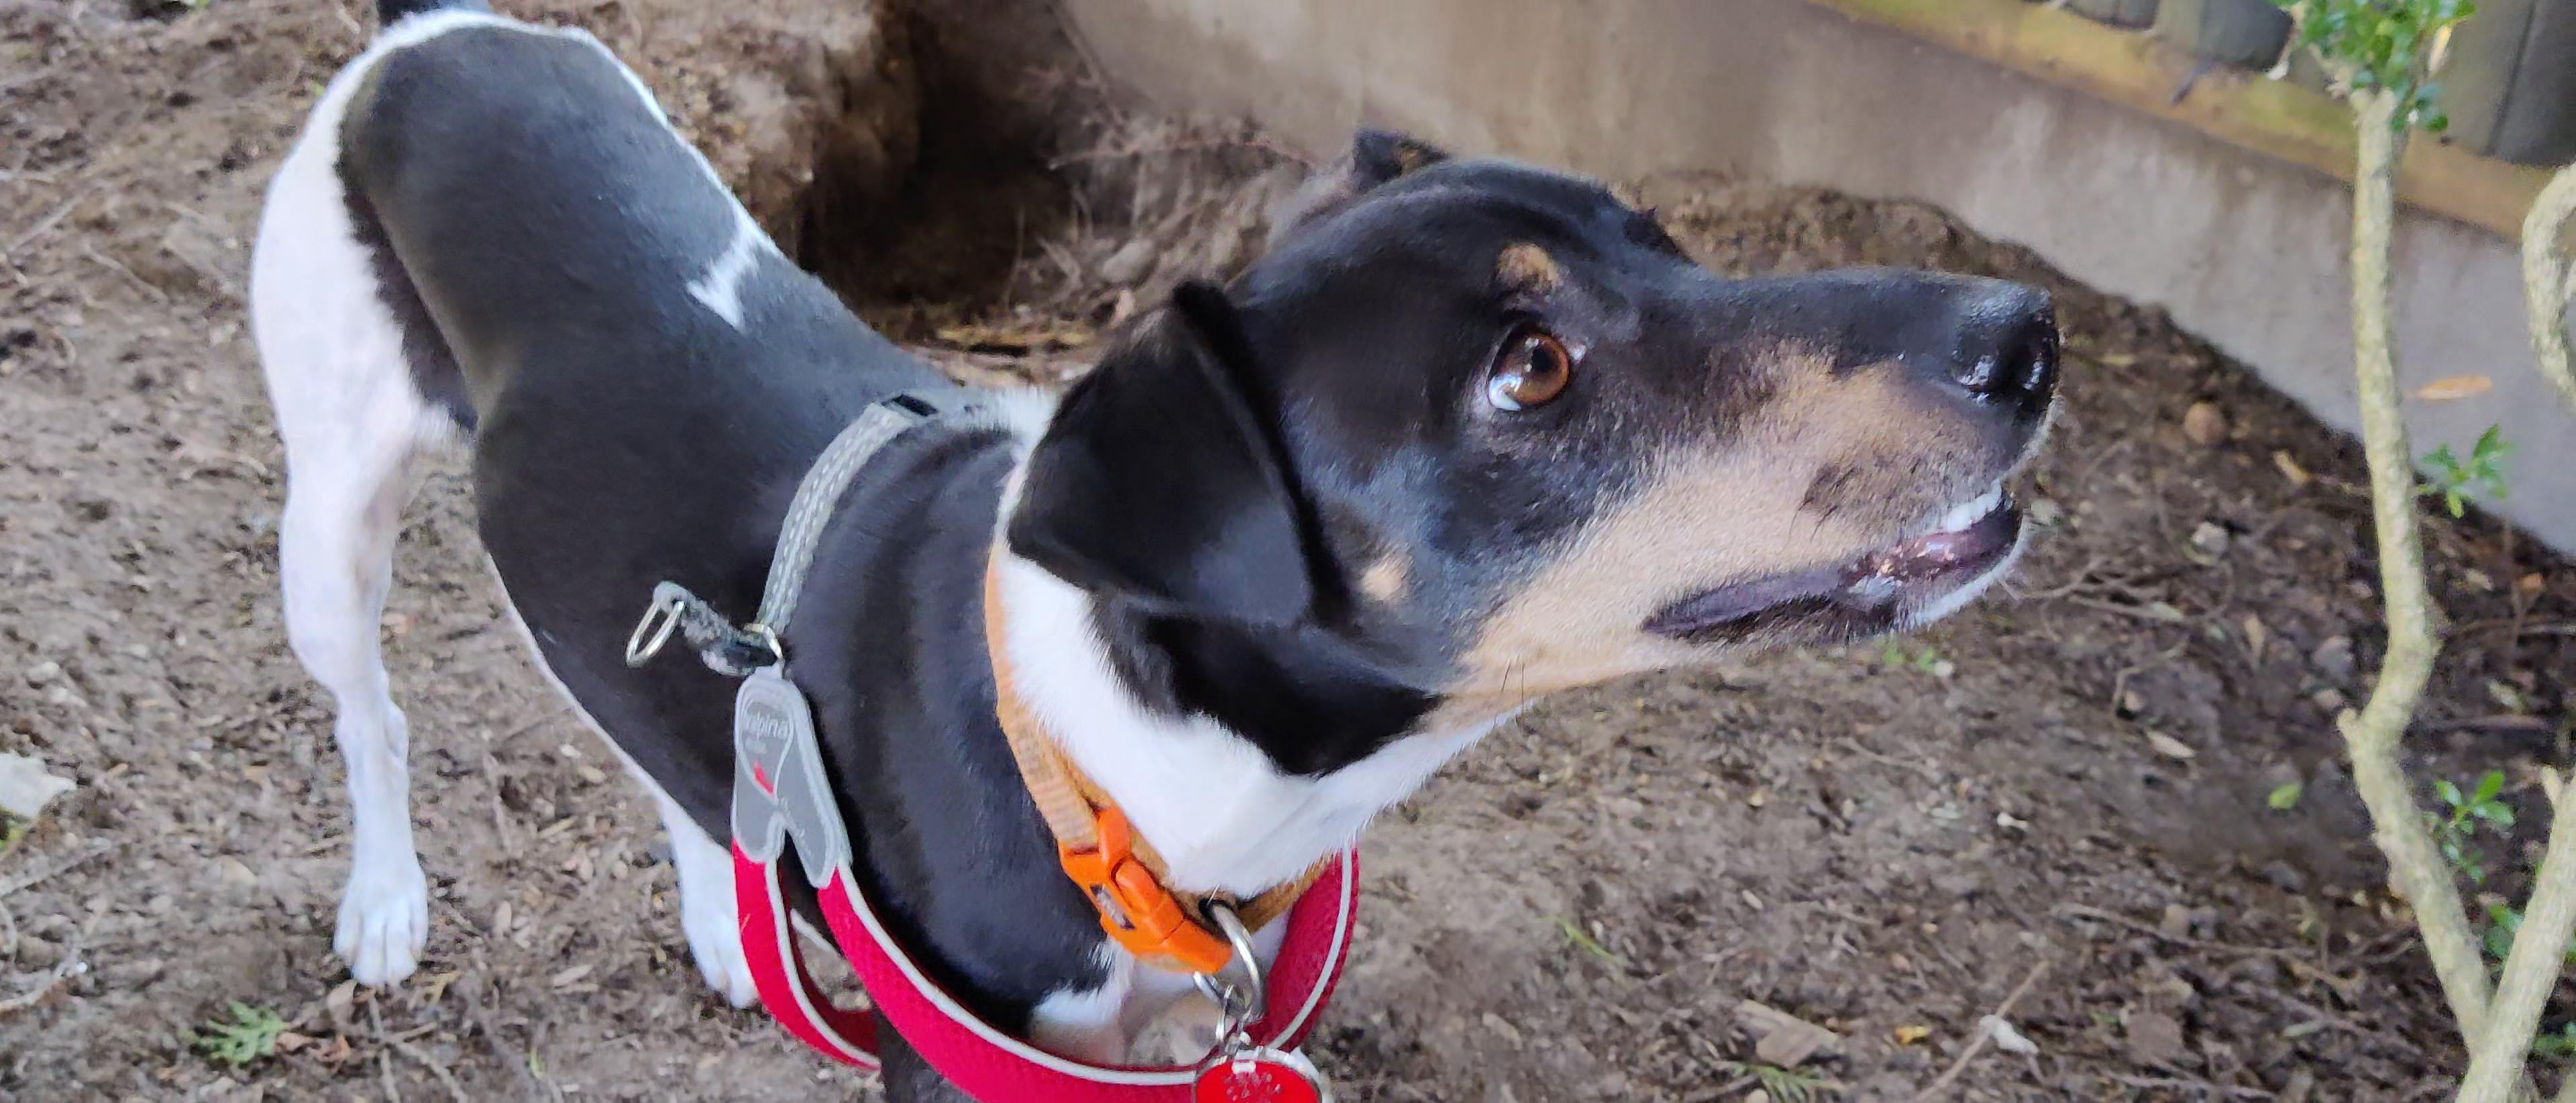Dog: (209, 0, 2100, 1103)
